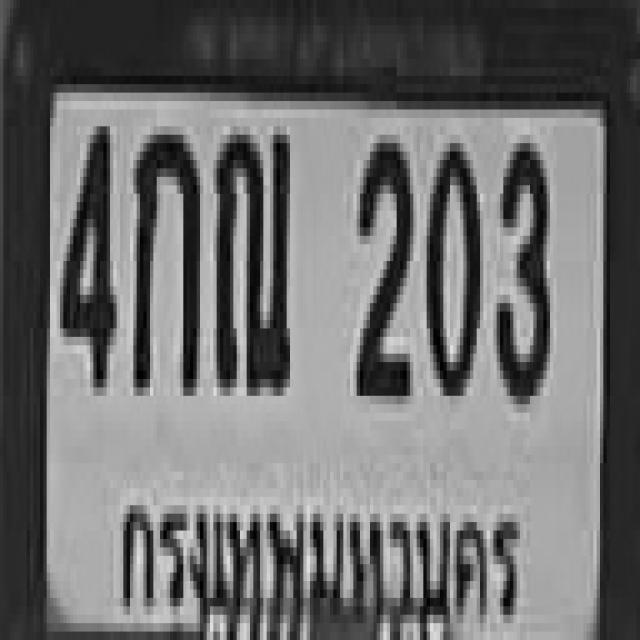0: (423, 135, 477, 387)
10GorGai: (130, 126, 197, 388)
2: (353, 135, 410, 387)
28NorNen: (213, 118, 287, 387)
3: (493, 135, 547, 396)
4: (57, 118, 113, 379)
Bangkok: (109, 478, 527, 636)
